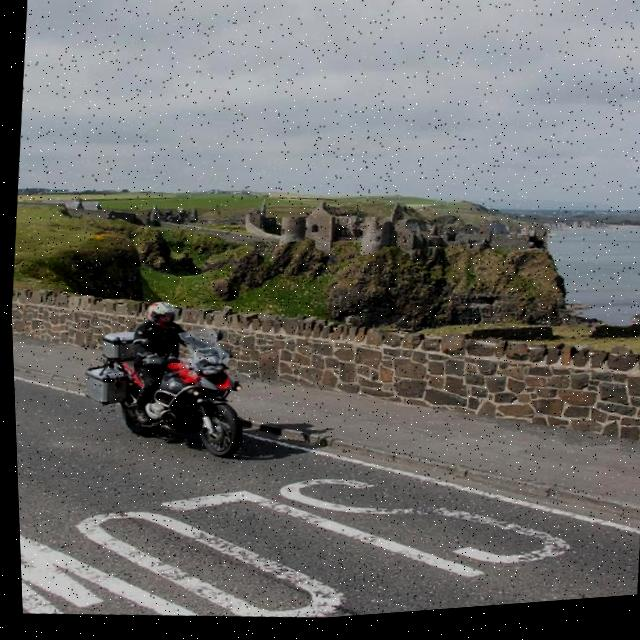motorcycle: (80, 320, 257, 478)
